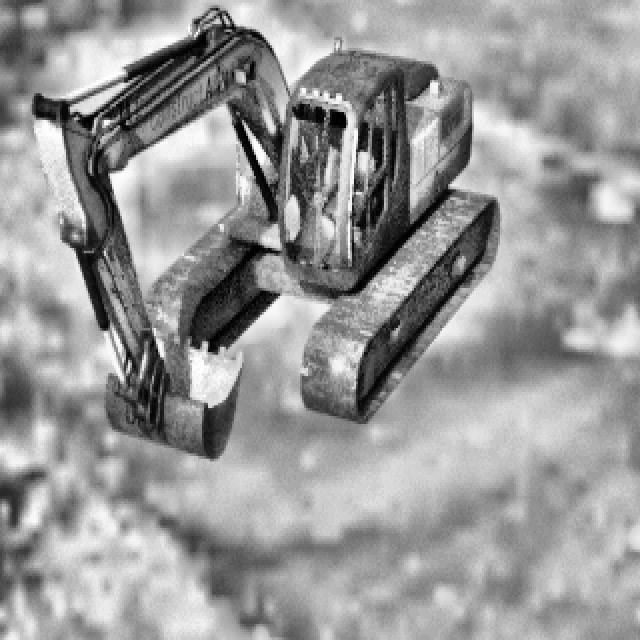excavator: (30, 8, 500, 459)
